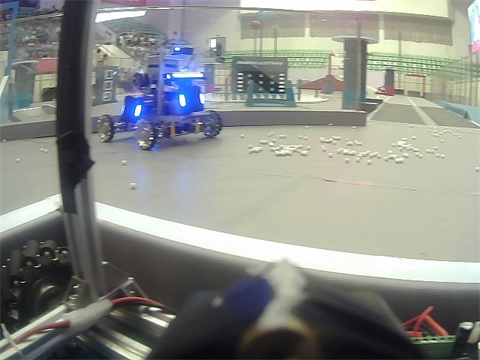chariot: (99, 50, 229, 159)
